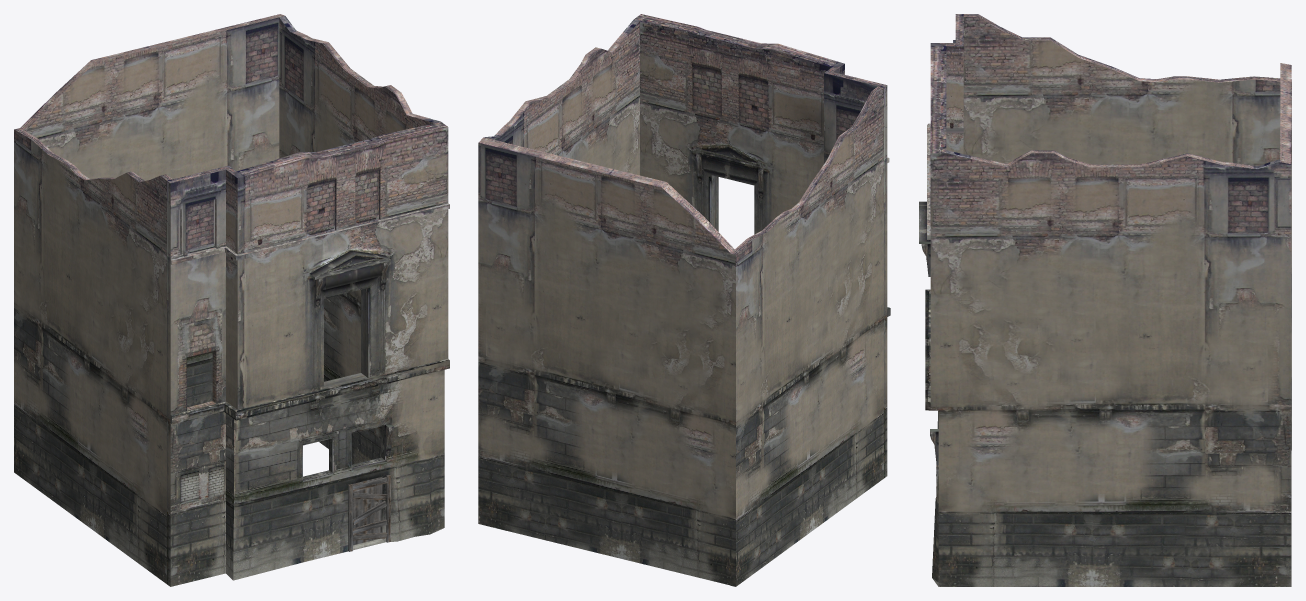
Rendered from war_torn1.obj.
3 views of the same model, side by side, from view 1: azimuth 30°, elevation 25°; view 2: azimuth 150°, elevation 25°; view 3: azimuth 270°, elevation 25° (orthographic). The views are drawn at different scales.
Visible parts, largest first — view 1: worn_torn1; view 2: worn_torn1; view 3: worn_torn1.
Part boxes in pixels (box(x1,y1,x2,y2)): worn_torn1: box(14, 14, 449, 586); worn_torn1: box(478, 14, 890, 586); worn_torn1: box(919, 14, 1291, 586).
Size of the model in its own units: 327 by 477 by 369.
1 material, 1 textured.
